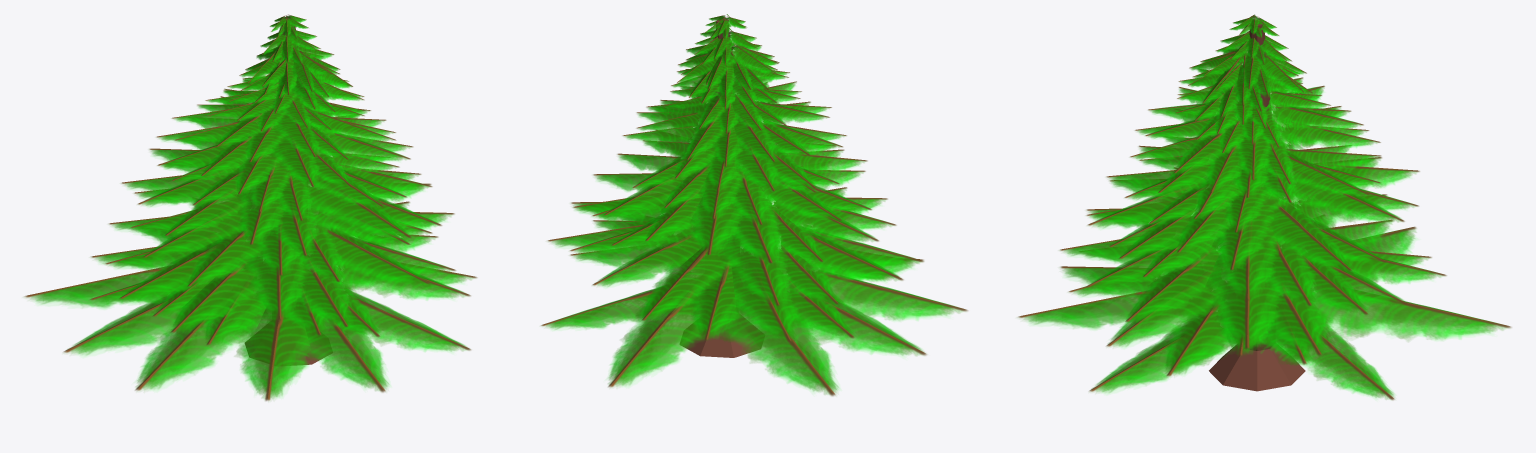
File: PineTree-1.glb
3 renders of one model, left to right at view 1: azimuth 30°, elevation 25°; view 2: azimuth 150°, elevation 25°; view 3: azimuth 270°, elevation 25°, orthographic. The views are drawn at different scales.
Parts seen in each view (by area): view 1: Plane.354, Plane.195, Plane.193, Plane.355, Plane.210, Plane.220, Plane.194, Plane.241, Plane.219, Plane.205, Plane.214, Plane.196 (+51 smaller); view 2: Plane.196, Plane.192, Plane.209, Plane.195, Plane.355, Plane.204, Plane.221, Plane.203, Plane.216, Plane.212, Plane.198, Cylinder.052 (+51 smaller); view 3: Plane.192, Plane.217, Plane.197, Cylinder.052, Plane.194, Plane.205, Plane.213, Plane.199, Plane.230, Plane.211, Plane.229, Plane.245 (+50 smaller).
Part boxes in pixels (bbox=[...]): Plane.354: bbox=[236, 305, 310, 401]; Plane.195: bbox=[135, 303, 265, 390]; Plane.193: bbox=[285, 284, 389, 392]; Plane.355: bbox=[63, 295, 186, 355]; Plane.210: bbox=[170, 259, 264, 332]; Plane.220: bbox=[241, 248, 309, 319]; Plane.194: bbox=[349, 290, 470, 351]; Plane.241: bbox=[304, 179, 411, 238]; Plane.219: bbox=[316, 225, 430, 284]; Plane.205: bbox=[338, 263, 470, 299]; Plane.214: bbox=[294, 257, 352, 327]; Plane.196: bbox=[24, 266, 170, 308]; Plane.196: bbox=[716, 300, 838, 396]; Plane.192: bbox=[608, 290, 705, 387]; Plane.209: bbox=[641, 244, 739, 320]; Plane.195: bbox=[818, 270, 967, 320]; Plane.355: bbox=[796, 296, 926, 355]; Plane.204: bbox=[725, 262, 797, 342]; Plane.221: bbox=[716, 234, 789, 306]; Plane.203: bbox=[689, 264, 743, 340]; Plane.216: bbox=[781, 226, 903, 281]; Plane.212: bbox=[592, 234, 705, 287]; Plane.198: bbox=[784, 275, 854, 338]; Cylinder.052: bbox=[680, 19, 761, 357]; Plane.192: bbox=[1309, 290, 1511, 340]; Plane.217: bbox=[1205, 252, 1282, 349]; Plane.197: bbox=[1261, 320, 1394, 400]; Cylinder.052: bbox=[1209, 22, 1305, 391]; Plane.194: bbox=[1089, 325, 1274, 393]; Plane.205: bbox=[1106, 270, 1224, 346]; Plane.213: bbox=[1125, 250, 1223, 322]; Plane.199: bbox=[1164, 292, 1230, 376]; Plane.230: bbox=[1269, 201, 1351, 270]; Plane.211: bbox=[1264, 284, 1326, 355]; Plane.229: bbox=[1211, 213, 1282, 300]; Plane.245: bbox=[1269, 171, 1404, 222].
Bounding box in the file's own units: 7.71 × 6.13 × 8.04.
Materials: 2 (1 with a texture image).
